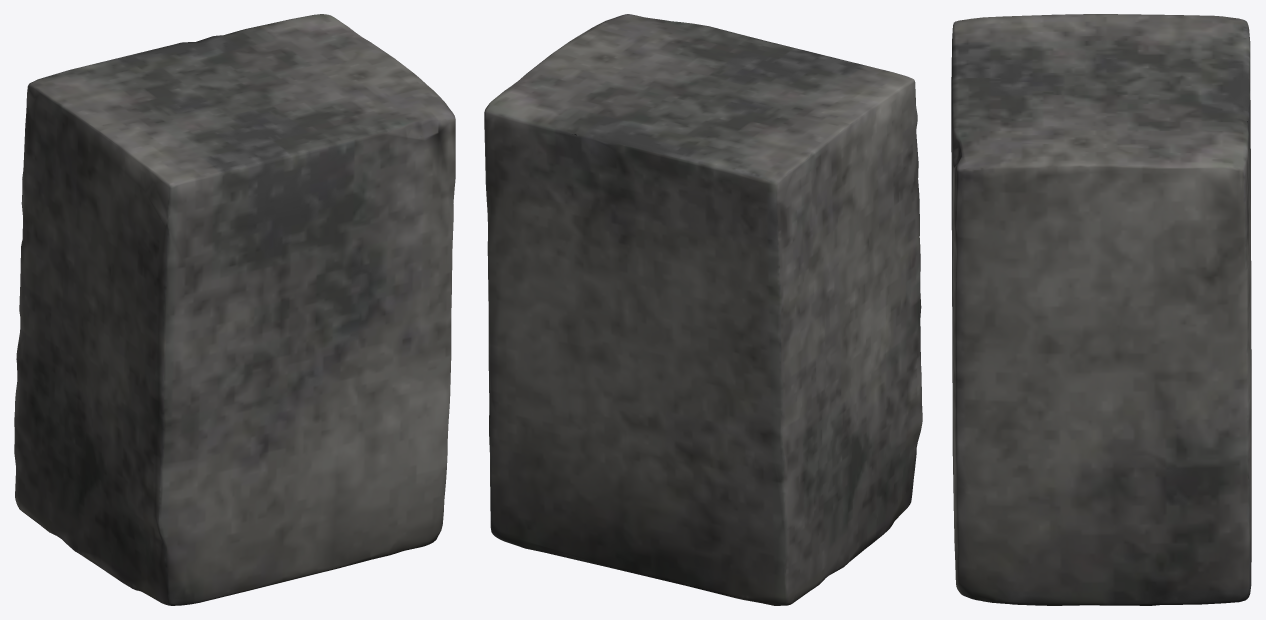
File: old-granite-anvil-v001.glb
3 views of the same model, side by side, from view 1: azimuth 30°, elevation 25°; view 2: azimuth 150°, elevation 25°; view 3: azimuth 270°, elevation 25° (orthographic). The views are drawn at different scales.
Visible parts, largest first — view 1: old-granite-anvil; view 2: old-granite-anvil; view 3: old-granite-anvil.
Part boxes in pixels (x1=…): old-granite-anvil: x1=14, y1=14, x2=455, y2=605; old-granite-anvil: x1=484, y1=14, x2=922, y2=605; old-granite-anvil: x1=951, y1=14, x2=1251, y2=605.
Bounding box in the file's own units: 0.4425 × 0.59 × 0.358.
1 material, 1 textured.
